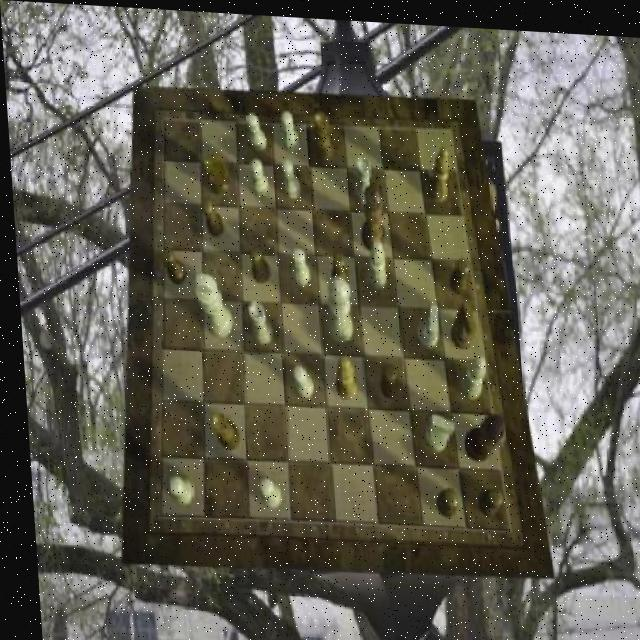bishop: (424, 140, 451, 198), (329, 350, 354, 395)
black-bishop: (457, 408, 503, 458)
black-king: (444, 297, 473, 346), (199, 149, 228, 194)
black-knight: (443, 251, 468, 289), (157, 247, 182, 284), (198, 197, 221, 236), (247, 243, 268, 282), (428, 482, 452, 514), (372, 360, 393, 395), (471, 484, 496, 513), (326, 249, 345, 285)
black-pawn: (355, 179, 384, 249)
black-queen: (204, 410, 234, 449), (309, 108, 332, 158)
black-rook: (453, 348, 483, 395), (360, 235, 383, 287)
white-bishop: (190, 271, 229, 337)
white-king: (418, 409, 450, 448), (409, 298, 435, 343)
white-knight: (161, 474, 187, 505), (279, 108, 298, 150), (251, 474, 275, 506), (244, 110, 264, 148), (280, 156, 299, 195), (287, 362, 309, 395), (287, 244, 306, 282), (248, 156, 267, 194)
white-pawn: (319, 271, 349, 338)
white-queen: (245, 298, 270, 343), (349, 153, 371, 202)
